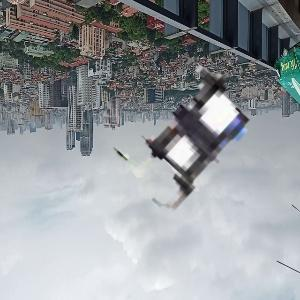drone: (106, 37, 285, 216)
